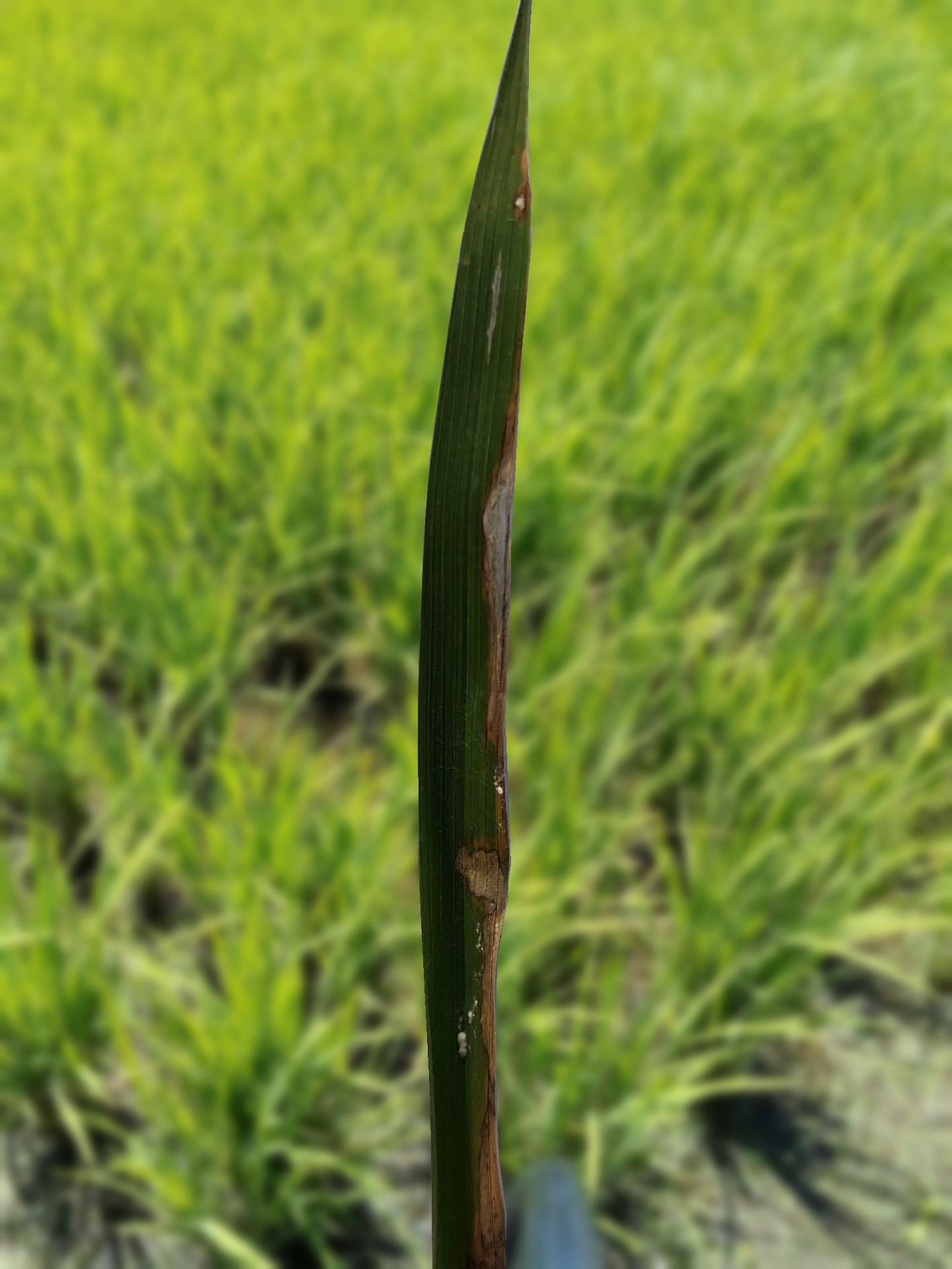BLB: (453, 274, 526, 1268)
